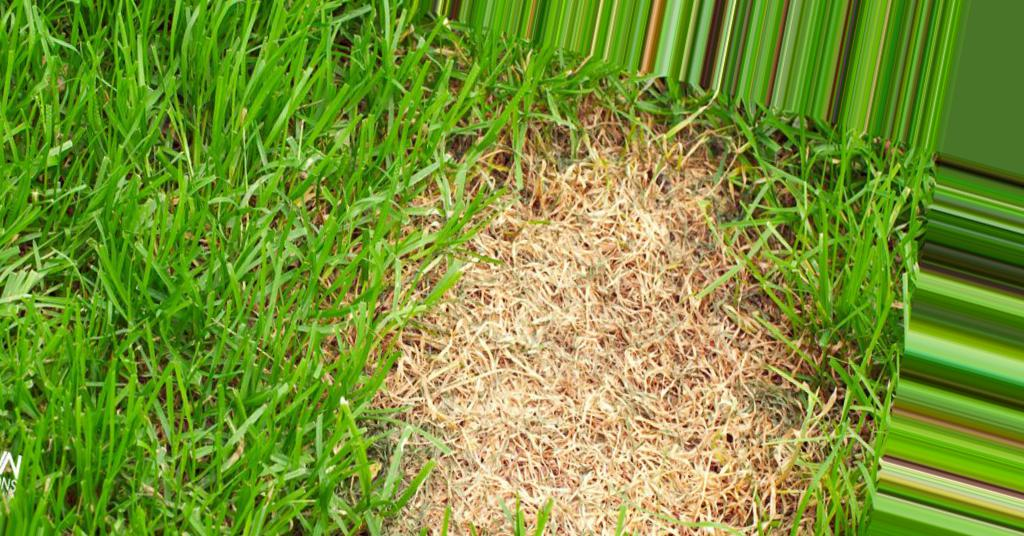patch: (460, 189, 739, 511)
